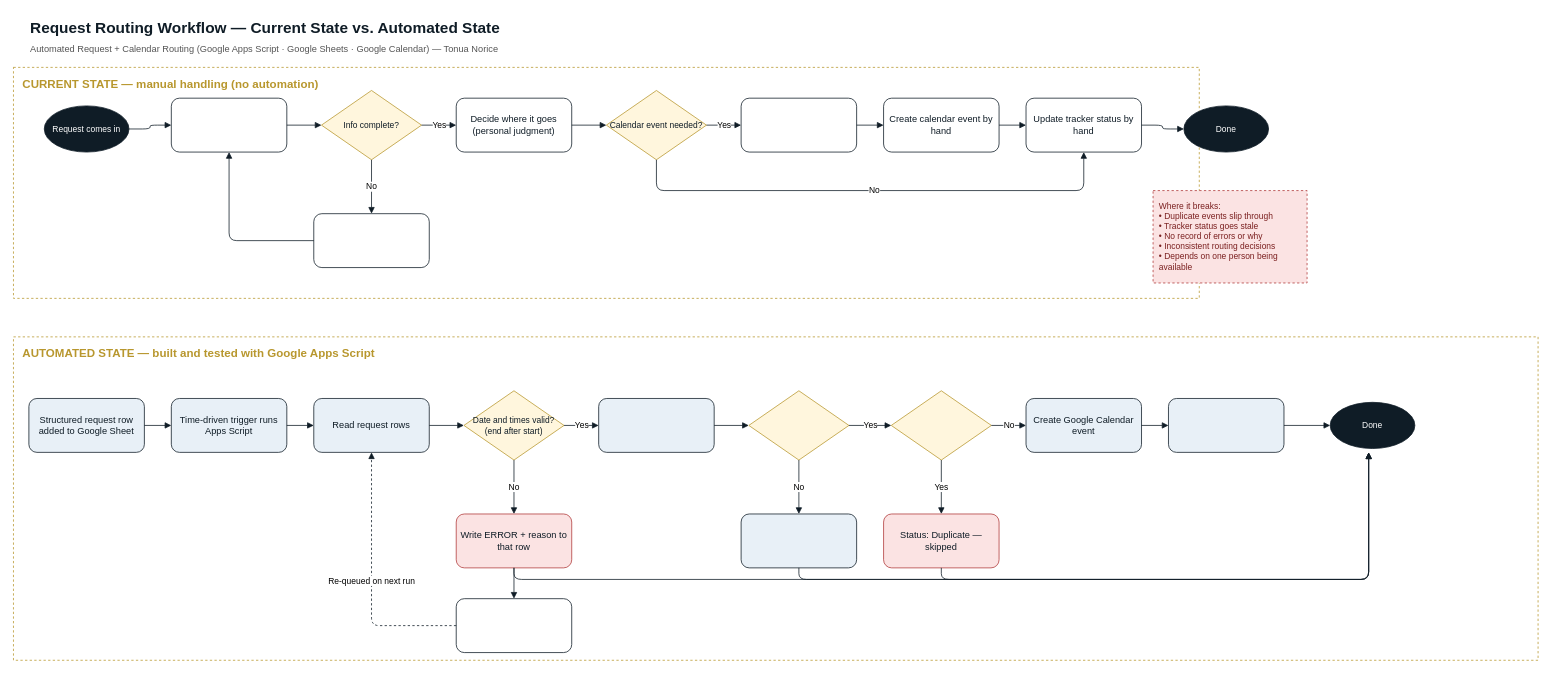
Some shapes in this 1552 by 674 pixel diagram are drawn without their labels. Here are the shapes that lost their labels. From the top down, the centre of each, then its label:
point 229,124: Person opens tracker and reads the request
point 798,124: Scan calendar by eye for an existing event
point 371,240: Email requester and wait for missing details
point 656,425: Apply routing rules
point 798,425: Calendar event required?
point 941,425: Event ID or "Created" already in row?
point 1226,425: Write Calendar Status, Event ID, Automation Status
point 798,540: Calendar Status: Not Required
point 513,625: Human reviews and corrects the row
